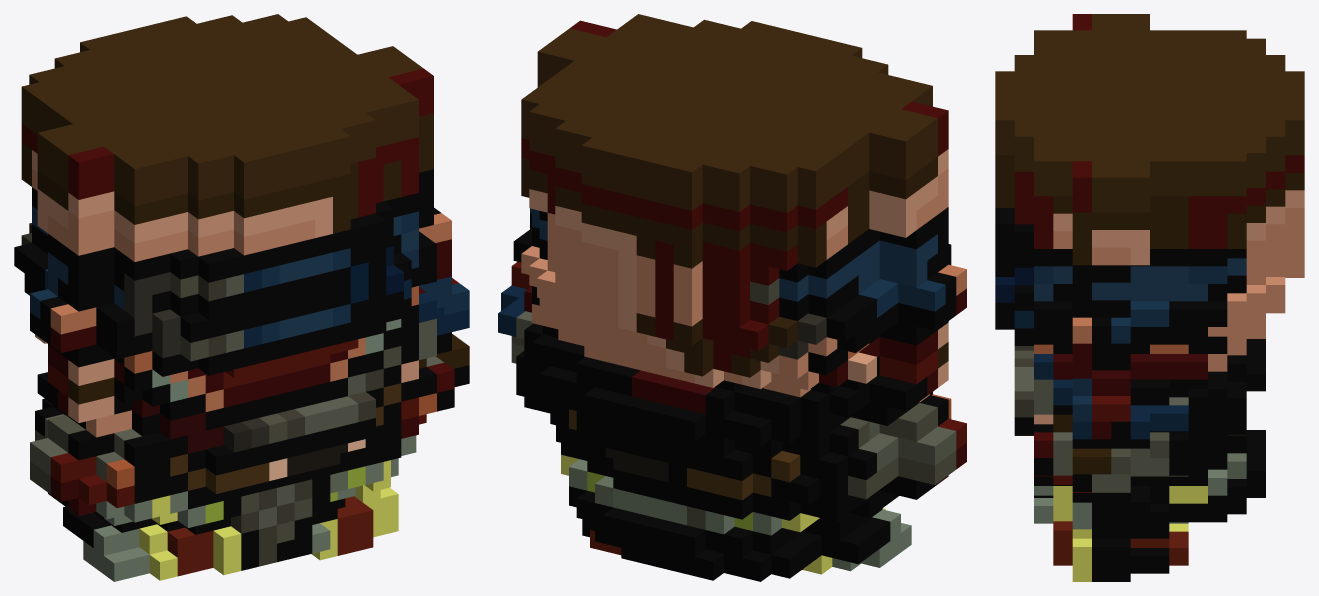
File: Icon_701_01.obj
3 views of the same model, side by side, from view 1: azimuth 30°, elevation 25°; view 2: azimuth 150°, elevation 25°; view 3: azimuth 270°, elevation 25° (orthographic). The views are drawn at different scales.
Bounding box in the file's own units: 2.3 × 2.4 × 1.6.
Materials: 1 (1 with a texture image).
